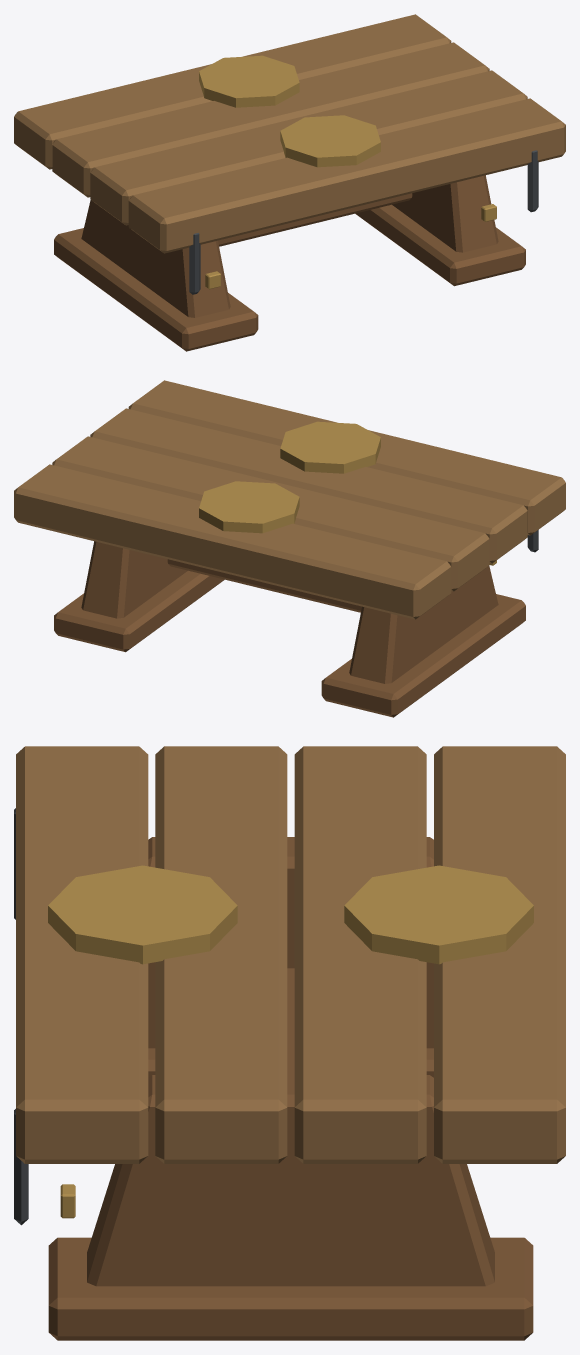
Rendered from interior-bank.glb.
3 views of the same model, one above another, from view 1: azimuth 30°, elevation 25°; view 2: azimuth 150°, elevation 25°; view 3: azimuth 270°, elevation 25° (orthographic). The views are drawn at different scales.
Parts seen in each view (by area): view 1: interior-bank-visual; view 2: interior-bank-visual; view 3: interior-bank-visual.
Part boxes in pixels (box(x1,y1,x2,y2)): interior-bank-visual: box(14, 14, 565, 351); interior-bank-visual: box(14, 380, 565, 717); interior-bank-visual: box(14, 746, 565, 1340).
Size of the model in its own units: 1.44 by 0.5325 by 0.9315.
